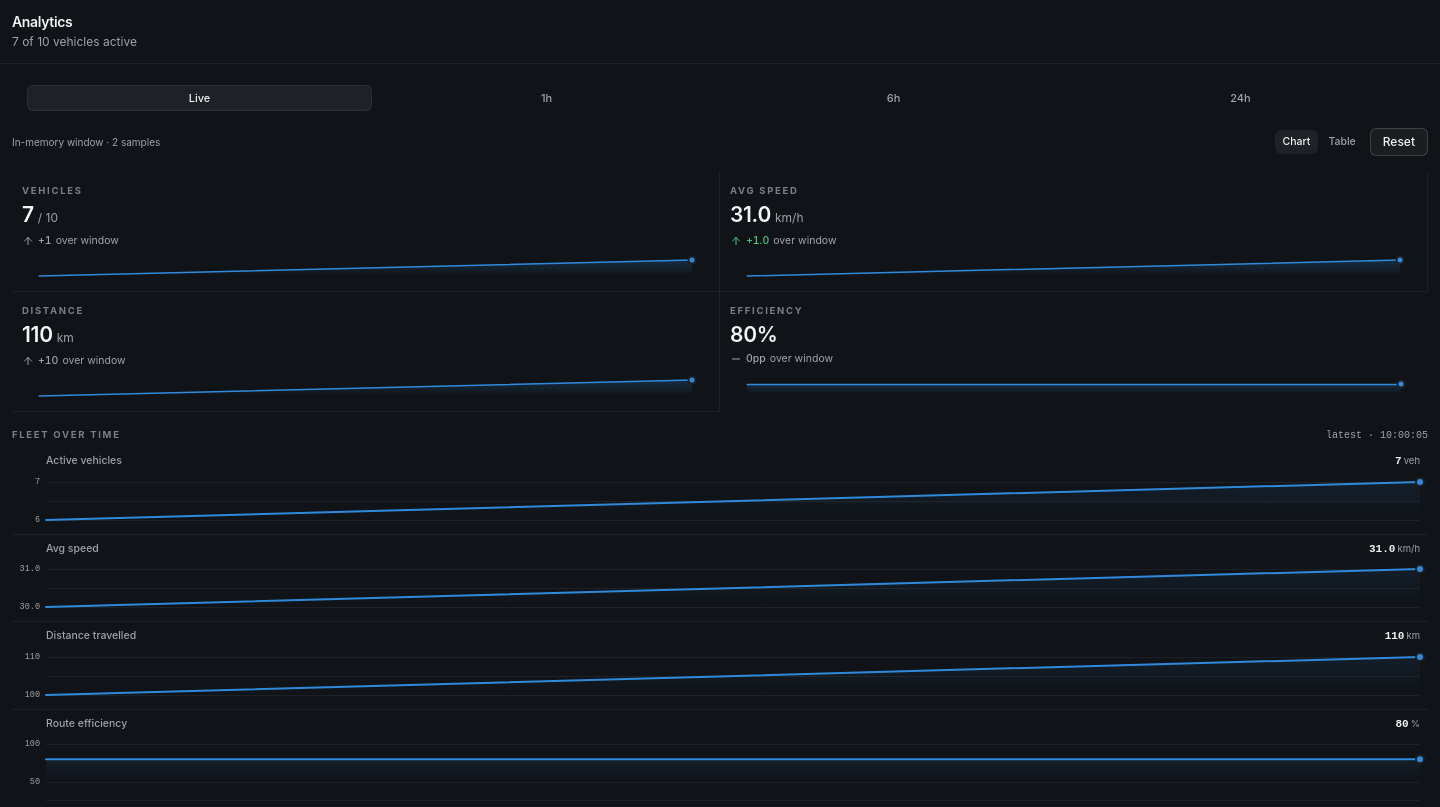
Test: AnalyticsPanel — persisted history › returns to the in-memory window when Live is reselected
Click the tab "1h" at (546, 98), box [374,84,719,111]
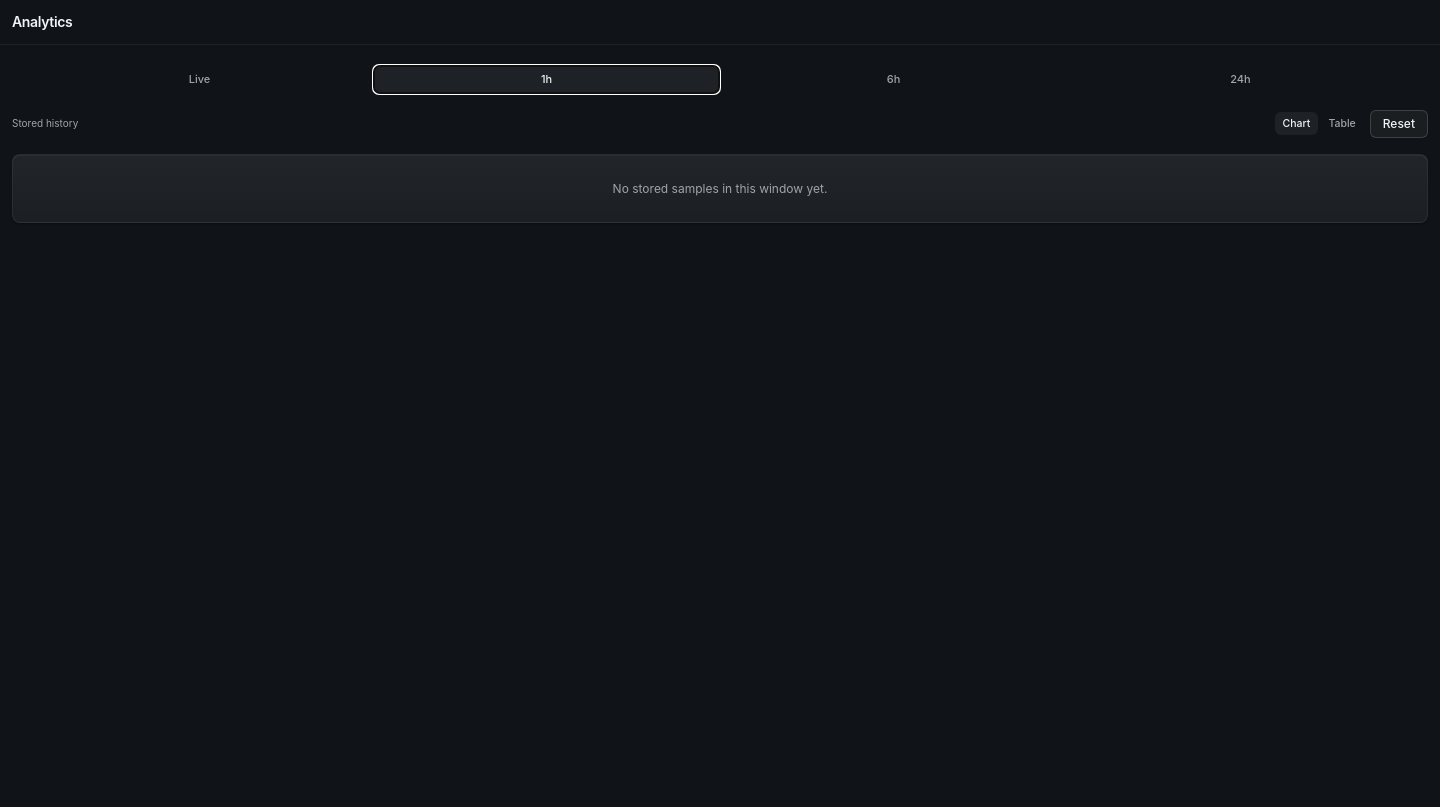
Check: the text "No stored samples in this window yet." is shown, box [613,178,827,198]
Click the tab "Live" at (200, 79), box [27,66,372,92]
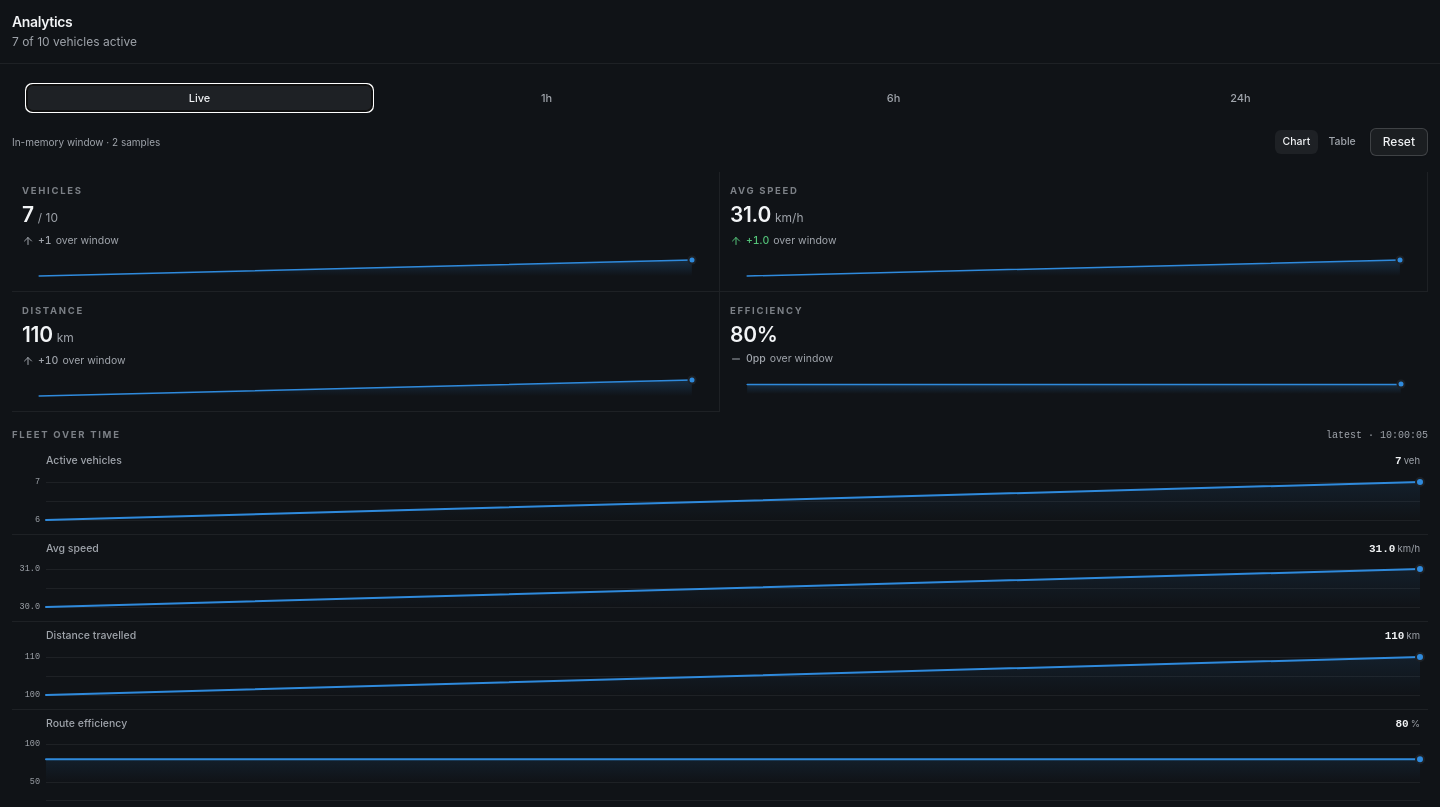
Check: the text "In-memory window · 2 samples" is shown, box [12,134,160,150]
